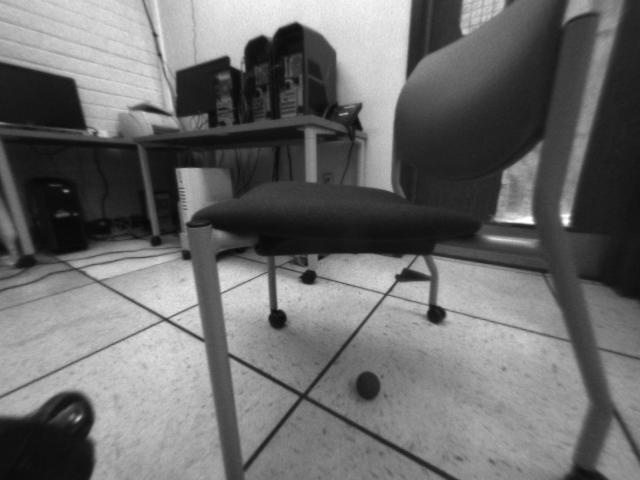dogtoy: (350, 364, 385, 403)
